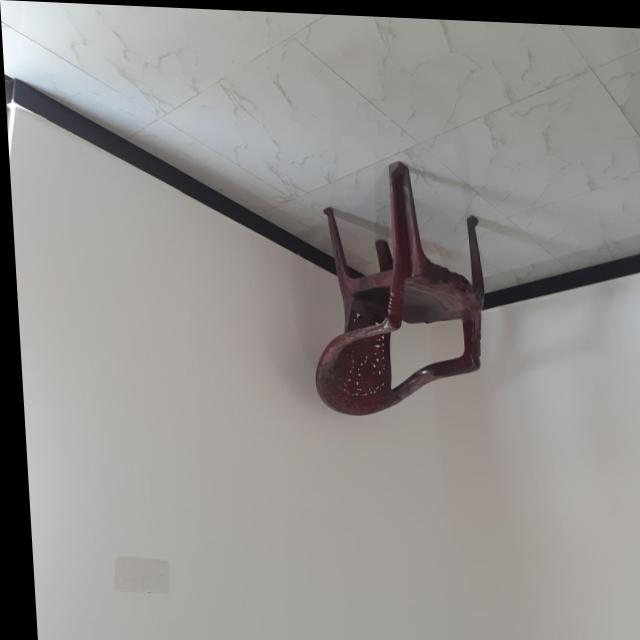Chair: (302, 155, 491, 419)
